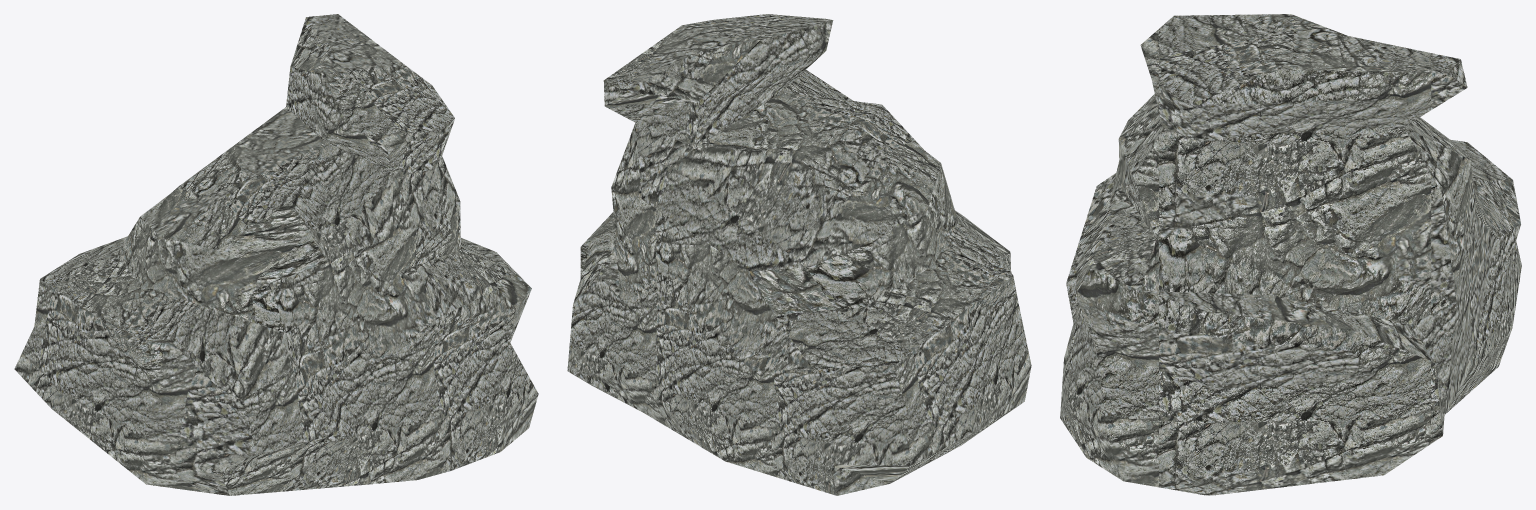
File: Stone03.FBX
The picture shows the model from 3 angles, left to right: view 1: azimuth 30°, elevation 25°; view 2: azimuth 150°, elevation 25°; view 3: azimuth 270°, elevation 25°; orthographic projection. The views are drawn at different scales.
Parts seen in each view (by area): view 1: Stone03; view 2: Stone03; view 3: Stone03.
Boxes of the visible parts, bbox=[...] form: Stone03: bbox=[14, 14, 538, 495]; Stone03: bbox=[567, 14, 1031, 495]; Stone03: bbox=[1060, 14, 1521, 495].
Bounding box in the file's own units: 28.94 × 24.81 × 25.46.
